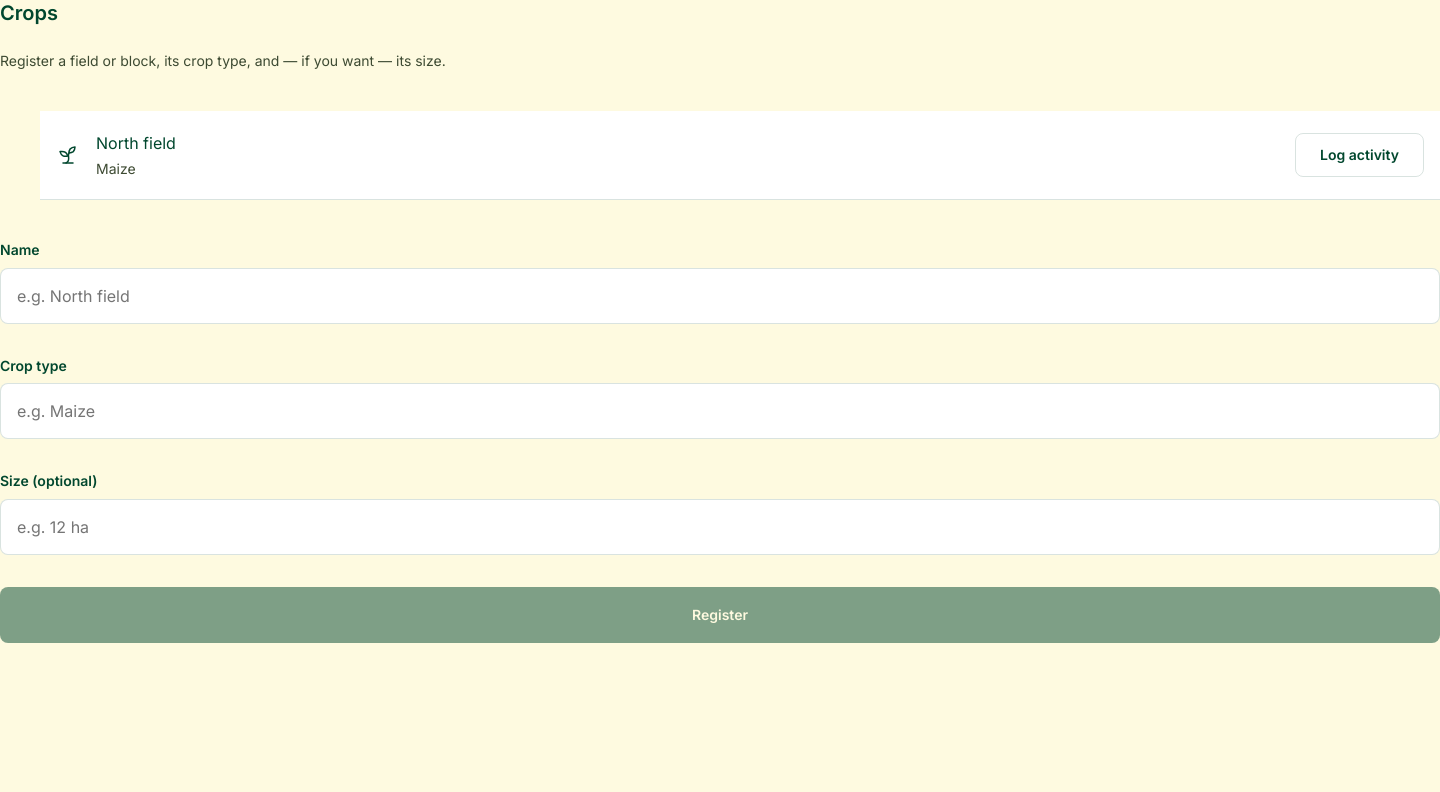
Scenario: CropsScreen › does not write an activity when the form is cancelled
Click the button "Log activity". click: (1360, 155)
box: [1295,133,1424,177]
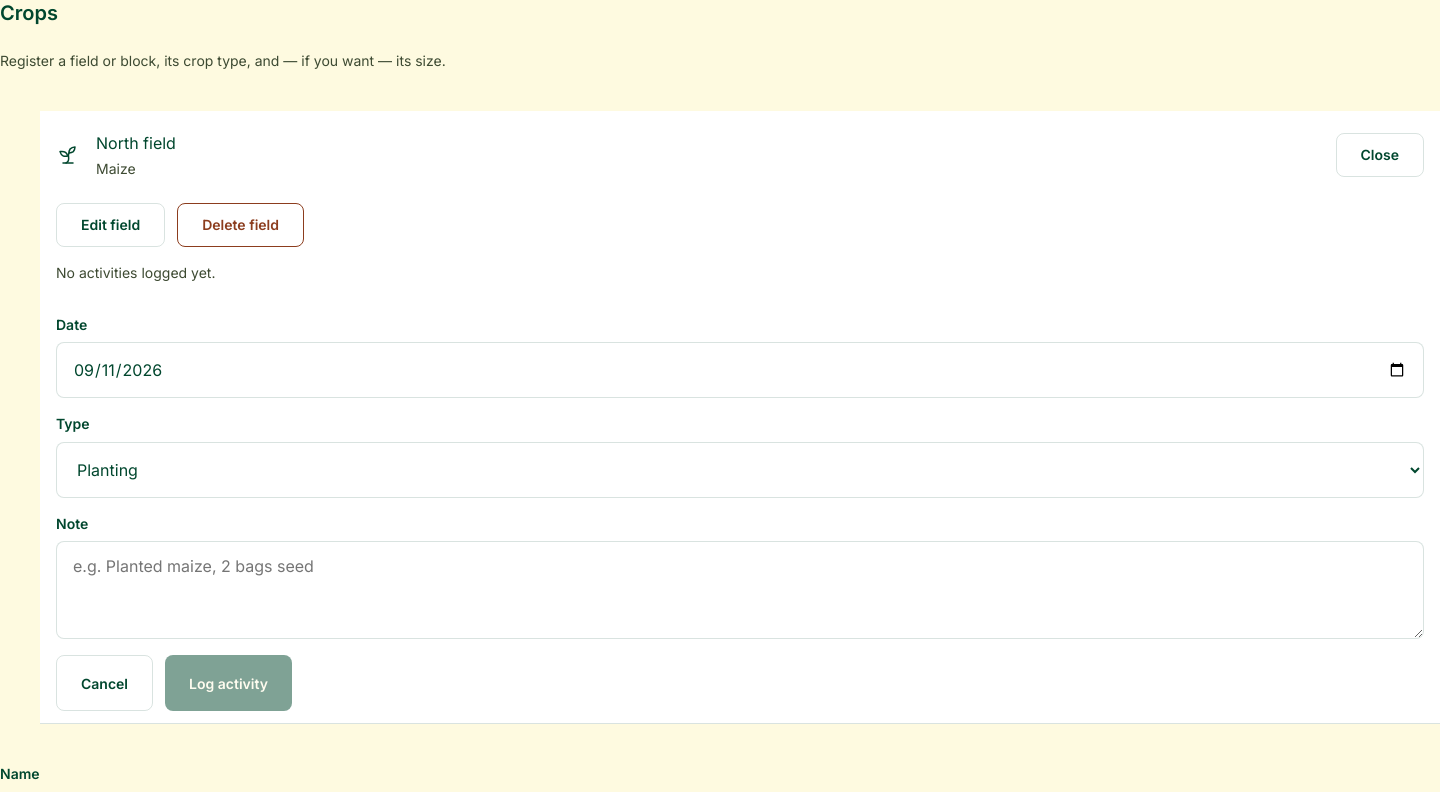
Type "Draft note" into the text box with test id "activity-note-input". click: (740, 590)
box: [56,541,1424,639]
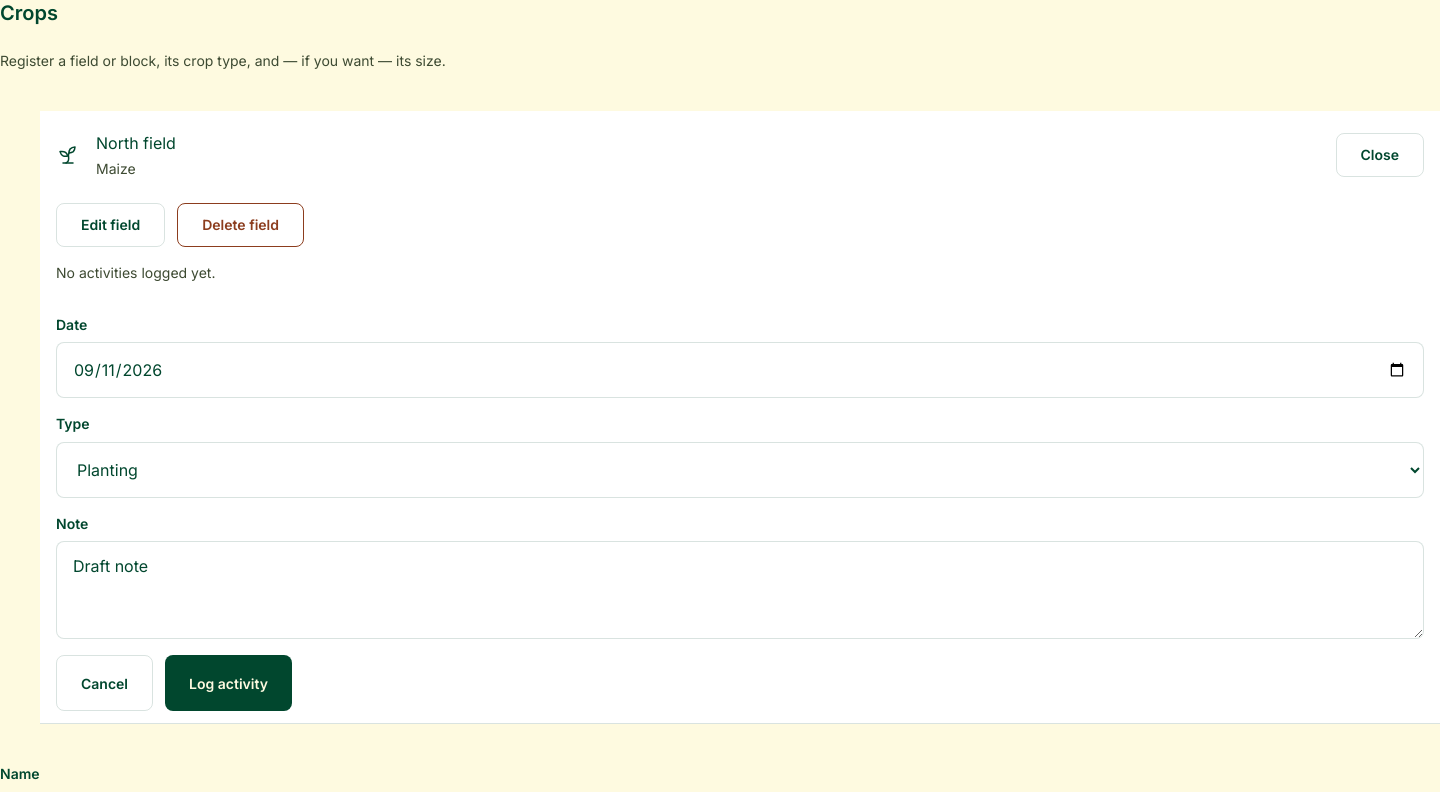
Click the button "Cancel". click: (104, 683)
box: [56,655,153,711]
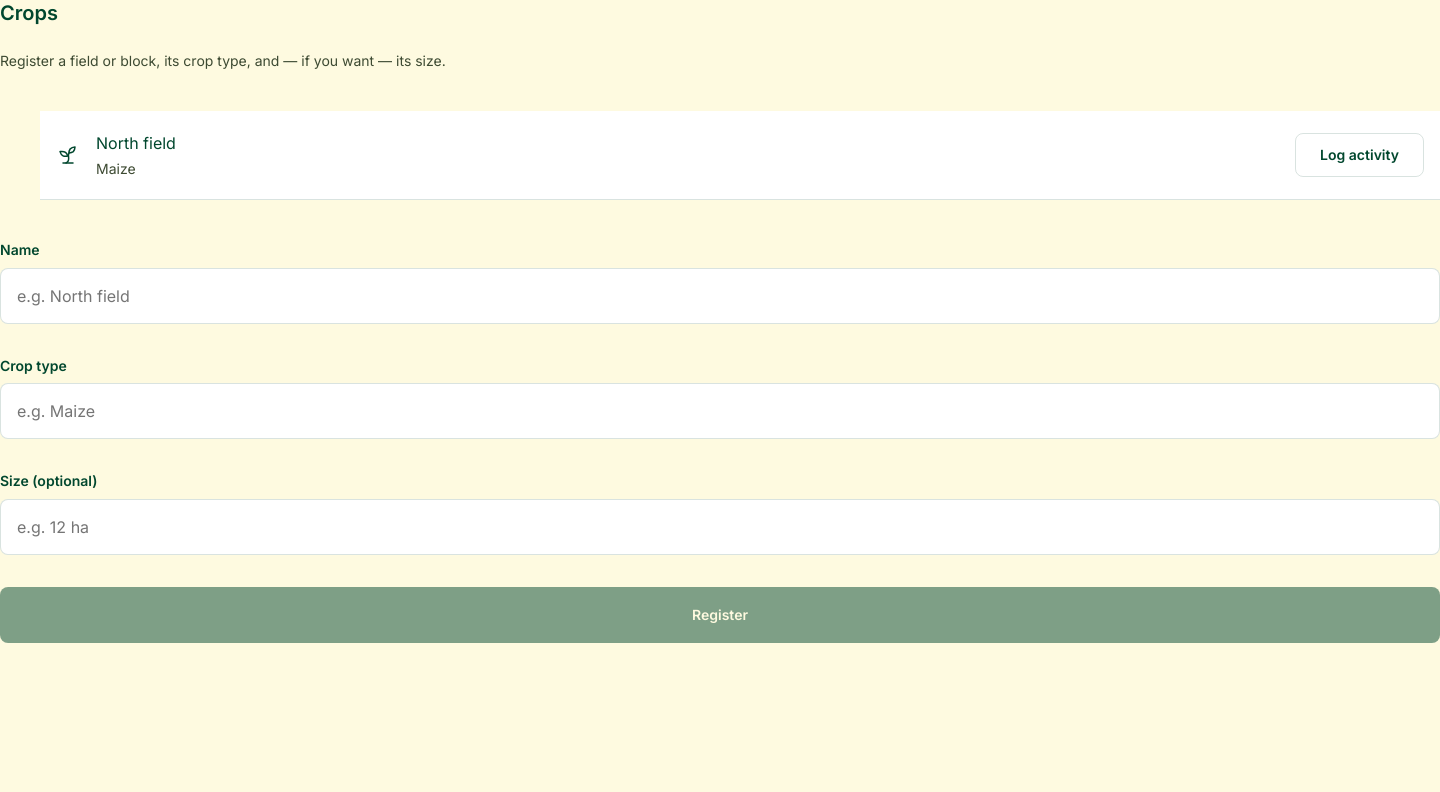
Result: the text box with test id "activity-note-input" is gone
